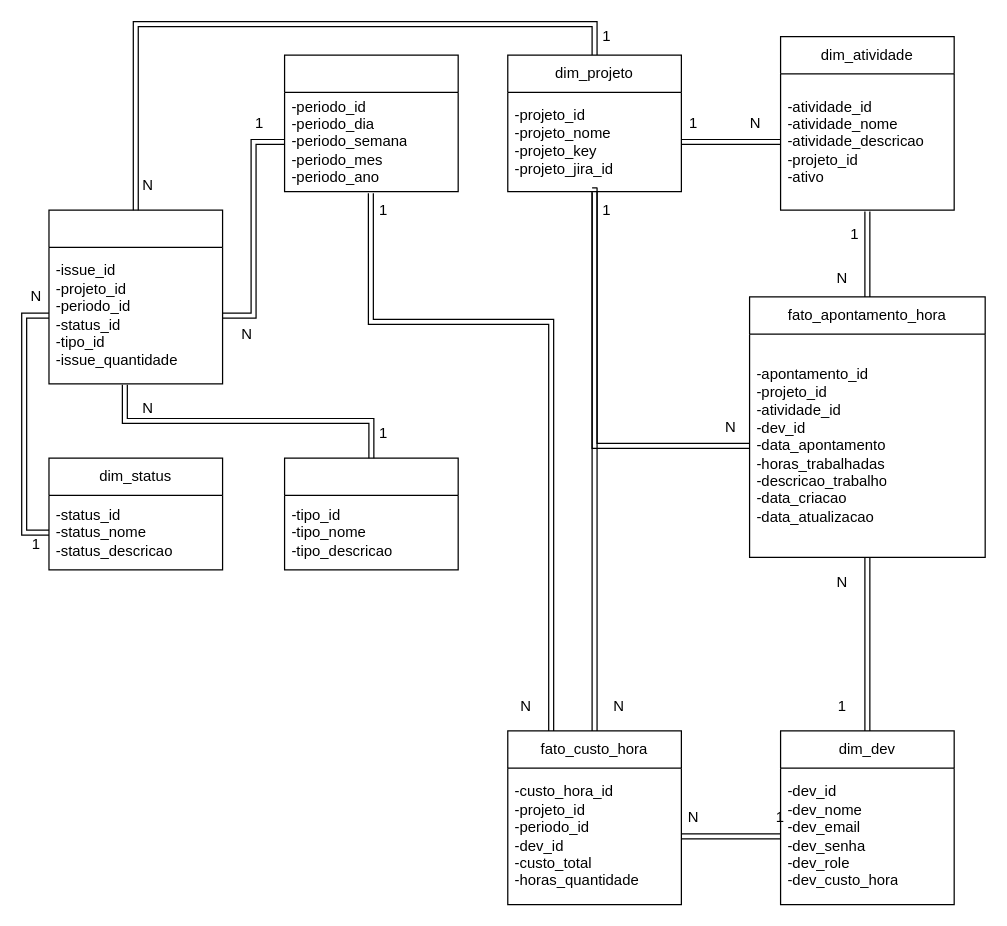
This 1007x926 diagram has some shape labels left out. The shapes that lost their labels are listed below. From the top down, each one's box as (x1, y1, x2, y2) in pixels, then its label:
(283, 54, 458, 192): dim_periodo
(48, 209, 223, 384): fato_issue
(283, 457, 458, 570): dim_tipo
